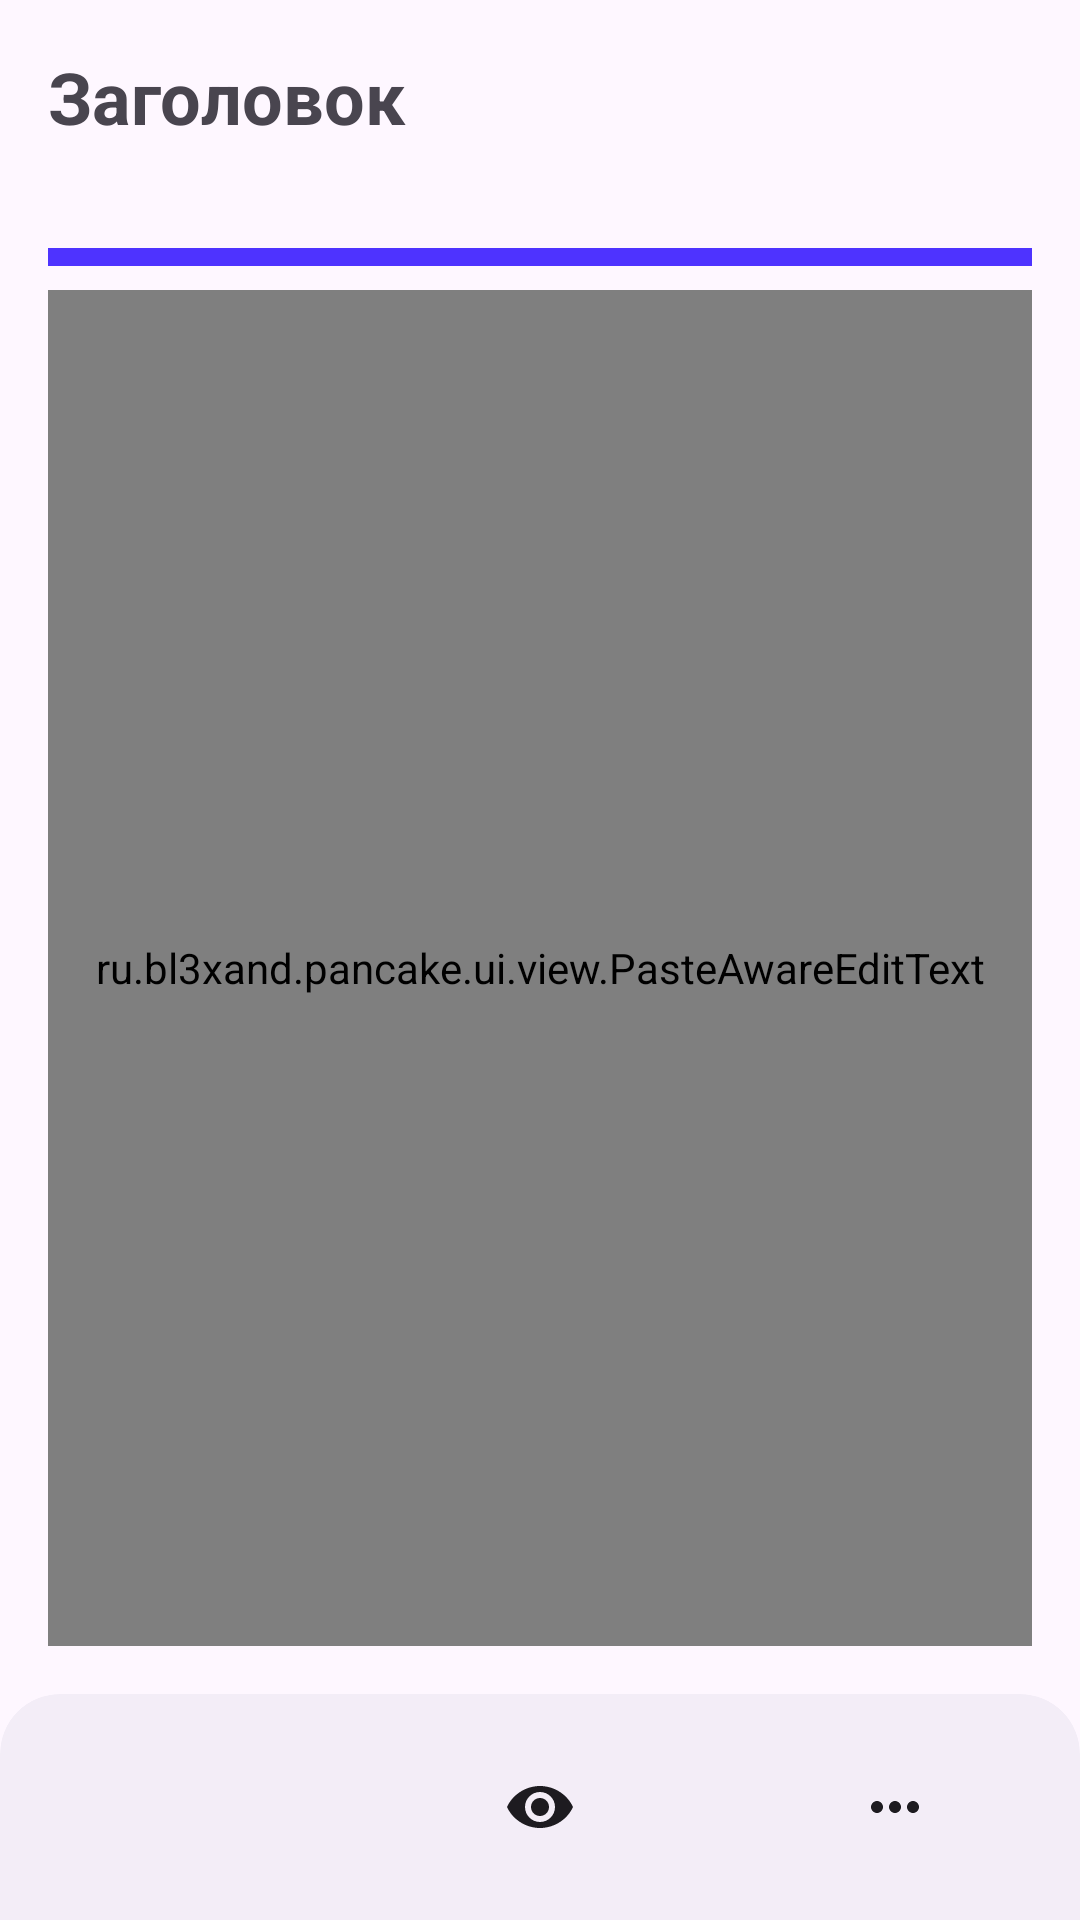

Where icons sit on this 1080 x 1920 app screen, as Rect(x1, y1, x2, y2):
Дополнительно: Rect(871, 1801, 919, 1813)
Просмотр Markdown: Rect(507, 1786, 573, 1828)
